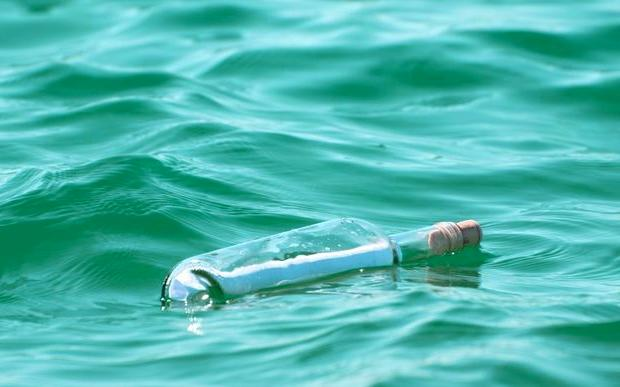Glass: (160, 211, 484, 318)
